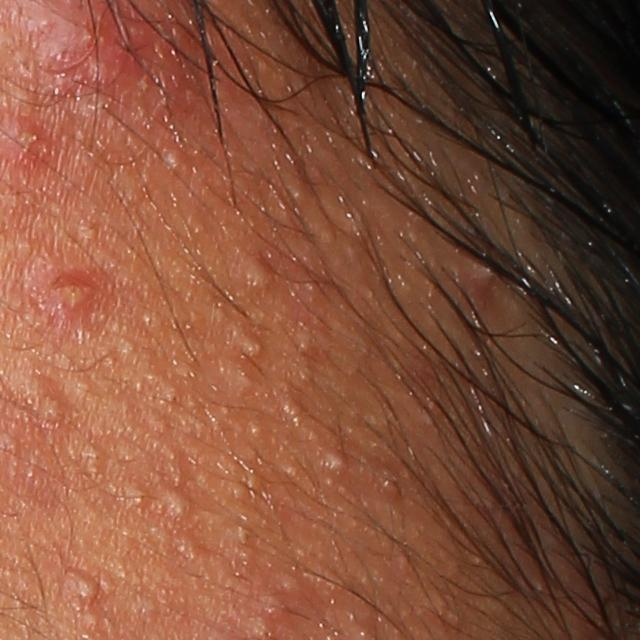comedo: (243, 253, 279, 290), (158, 489, 191, 526), (230, 327, 267, 360), (35, 387, 66, 426), (69, 575, 102, 606), (78, 441, 111, 472), (376, 469, 406, 503), (273, 573, 307, 601), (240, 416, 270, 447), (318, 444, 346, 477), (152, 380, 182, 410), (280, 395, 305, 426), (165, 146, 188, 175)
